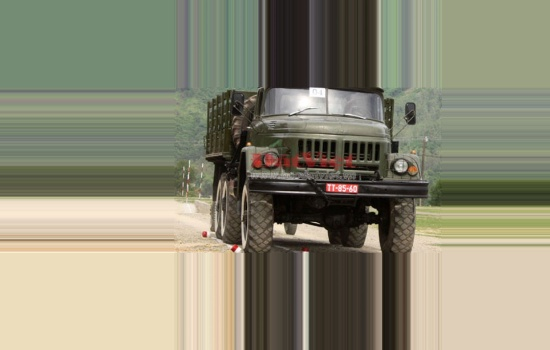plate: (323, 181, 360, 194)
